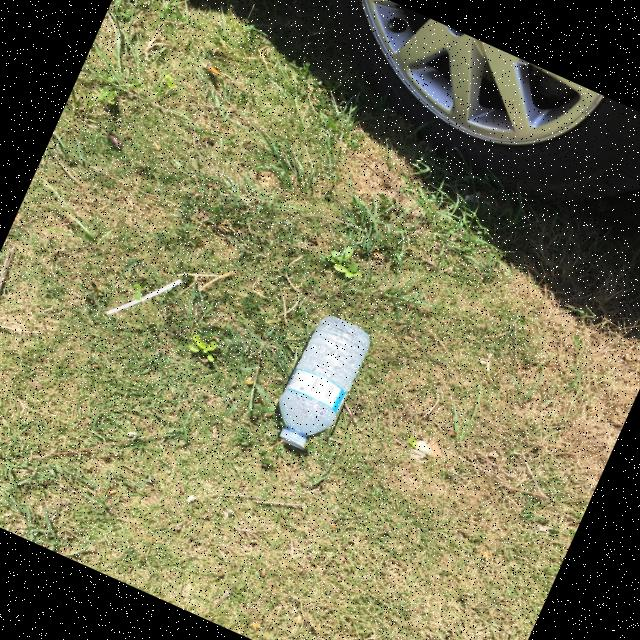Cigarette: (206, 67, 219, 75)
Clear plastic bottle: (278, 318, 370, 448)
Plastic bottle cap: (283, 435, 309, 450)
Plastic straw: (105, 280, 182, 316)
